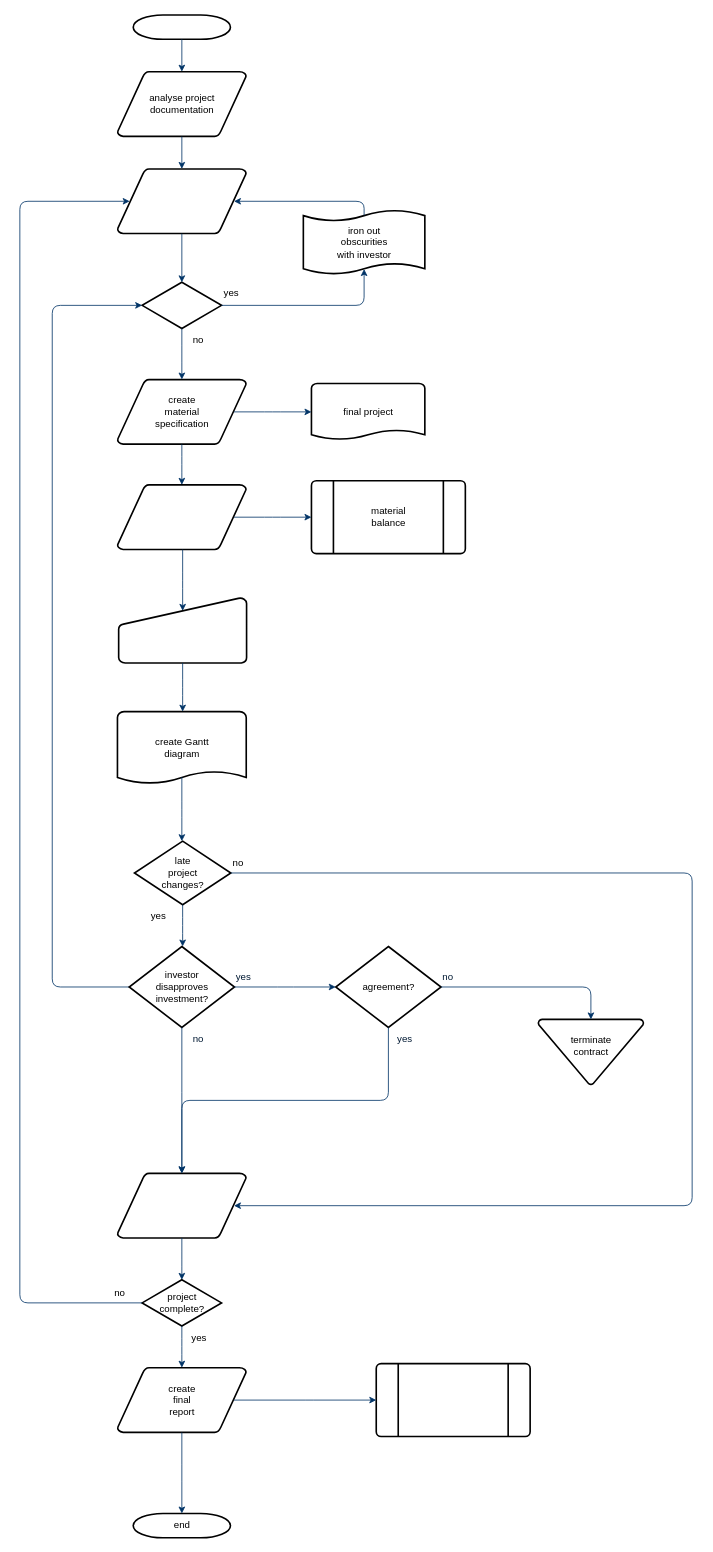
Some shapes in this 713 by 1552 pixel diagram are drawn without their labels. The shapes that lost their labels are listed below. From the top down, each one's box as (x1, y1, x2, y2) in pixels, then its label:
(132, 14, 231, 40): start
(116, 168, 247, 234): check for obscurities
(141, 281, 222, 329): obscurities?
(116, 484, 247, 550): order material
(117, 597, 247, 663): organize workforce
(116, 1172, 247, 1238): create status report
(375, 1362, 531, 1437): issue bill of works
